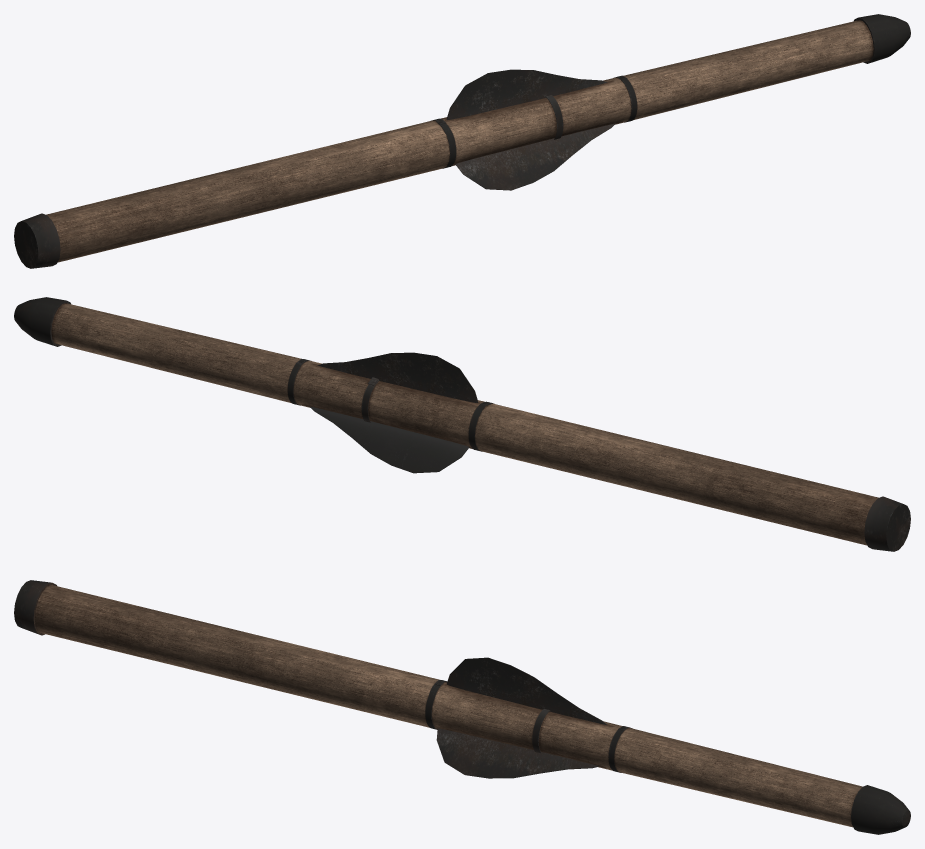
Rendered from SM_Barrel_Arrow.fbx.
3 renders of one model, top to bottom at view 1: azimuth 30°, elevation 25°; view 2: azimuth 150°, elevation 25°; view 3: azimuth 330°, elevation 25°, orthographic.
Parts seen in each view (by area): view 1: SM_Barrel_Arrow; view 2: SM_Barrel_Arrow; view 3: SM_Barrel_Arrow.
Boxes of the visible parts, <box> form: SM_Barrel_Arrow: <box>14,14,910,268</box>; SM_Barrel_Arrow: <box>14,297,910,551</box>; SM_Barrel_Arrow: <box>14,580,910,834</box>.
Bounding box in the file's own units: 191 × 17.7 × 20.76.
Materials: 1 (1 with a texture image).
